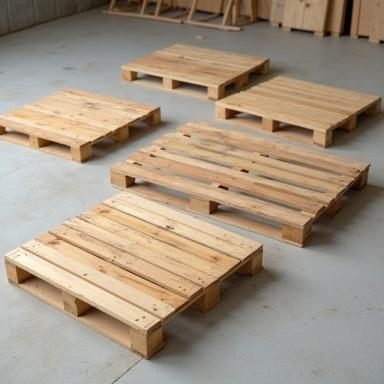pallet: (4, 191, 264, 360), (109, 119, 371, 248), (0, 86, 162, 164), (214, 76, 382, 149), (121, 42, 269, 100), (272, 122, 313, 136)
